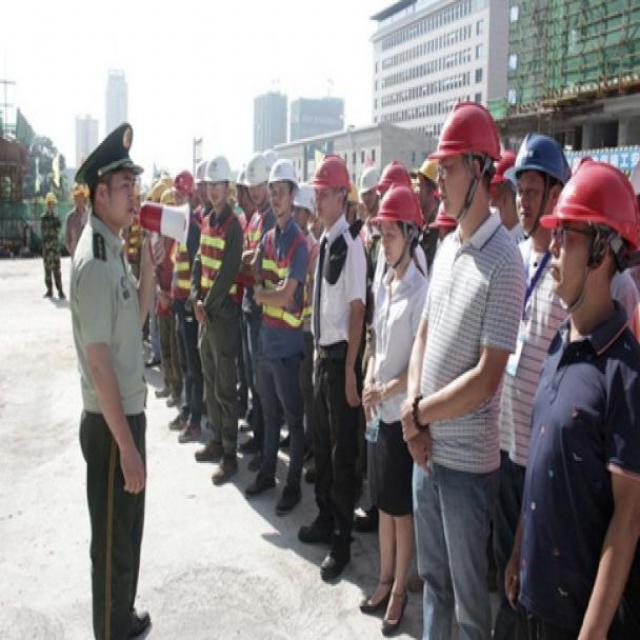helmet: (542, 159, 639, 334), (423, 107, 505, 215), (501, 121, 562, 231), (373, 181, 421, 262), (303, 151, 353, 223), (268, 153, 300, 223), (200, 155, 232, 207), (244, 151, 267, 205), (164, 169, 194, 205)
vest: (257, 217, 299, 306), (190, 202, 224, 298)
